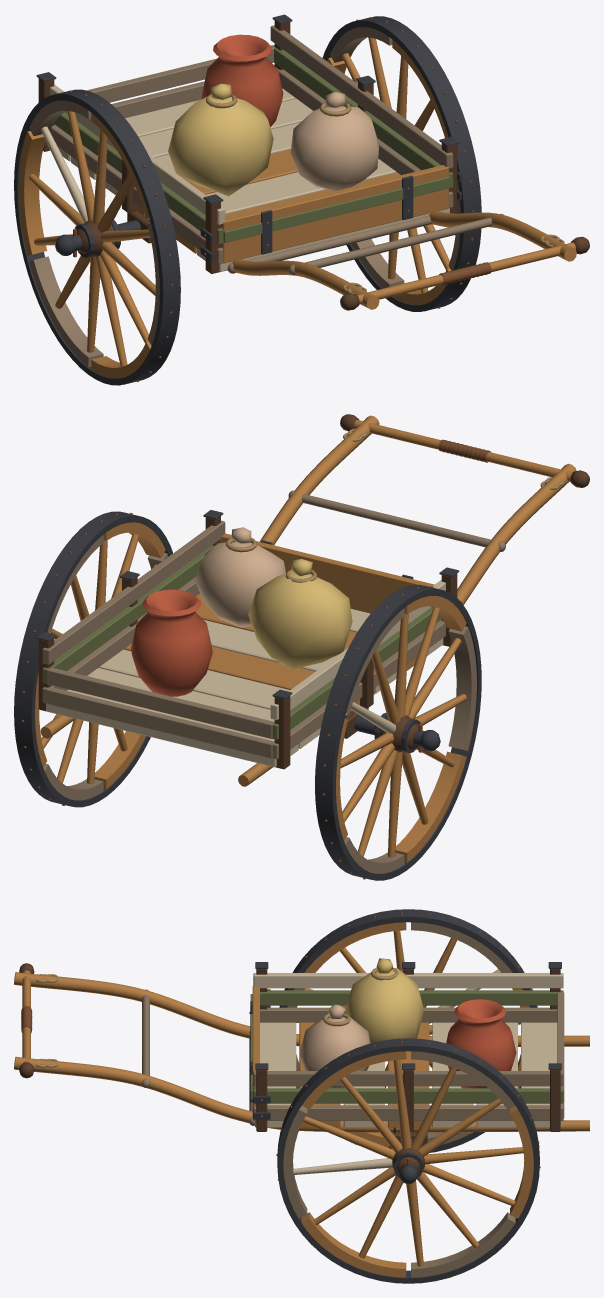
File: carry_cart_hand.fbx
The picture shows the model from 3 angles, top to bottom: view 1: azimuth 30°, elevation 25°; view 2: azimuth 150°, elevation 25°; view 3: azimuth 270°, elevation 25°; orthographic projection. The views are drawn at different scales.
Parts seen in each view (by area): view 1: Carry_Cart_Hand_Sides, Carry_Cart_Hand_Wheel_L, Carry_Cart_Hand_Load, Carry_Cart_Hand_Wheel_R, Carry_Cart_Hand_Floor, Carry_Cart_Hand_Shafts, Carry_Cart_Hand_Bar, Carry_Cart_Hand_Ironwork, Carry_Cart_Hand_Axle; view 2: Carry_Cart_Hand_Sides, Carry_Cart_Hand_Wheel_L, Carry_Cart_Hand_Load, Carry_Cart_Hand_Wheel_R, Carry_Cart_Hand_Floor, Carry_Cart_Hand_Shafts, Carry_Cart_Hand_Bar, Carry_Cart_Hand_Axle, Carry_Cart_Hand_Ironwork; view 3: Carry_Cart_Hand_Wheel_R, Carry_Cart_Hand_Sides, Carry_Cart_Hand_Load, Carry_Cart_Hand_Shafts, Carry_Cart_Hand_Floor, Carry_Cart_Hand_Wheel_L, Carry_Cart_Hand_Bar, Carry_Cart_Hand_Ironwork, Carry_Cart_Hand_Axle.
Boxes of the visible parts, bbox=[...] form: Carry_Cart_Hand_Sides: bbox=[38, 21, 457, 273]; Carry_Cart_Hand_Wheel_L: bbox=[14, 89, 180, 385]; Carry_Cart_Hand_Load: bbox=[168, 34, 378, 196]; Carry_Cart_Hand_Wheel_R: bbox=[322, 16, 481, 311]; Carry_Cart_Hand_Floor: bbox=[57, 88, 449, 271]; Carry_Cart_Hand_Shafts: bbox=[227, 211, 576, 309]; Carry_Cart_Hand_Bar: bbox=[340, 234, 589, 310]; Carry_Cart_Hand_Ironwork: bbox=[36, 14, 461, 260]; Carry_Cart_Hand_Axle: bbox=[55, 211, 151, 257]; Carry_Cart_Hand_Sides: bbox=[38, 516, 457, 769]; Carry_Cart_Hand_Wheel_L: bbox=[315, 585, 481, 880]; Carry_Cart_Hand_Load: bbox=[131, 527, 352, 696]; Carry_Cart_Hand_Wheel_R: bbox=[14, 511, 172, 807]; Carry_Cart_Hand_Floor: bbox=[46, 593, 443, 767]; Carry_Cart_Hand_Shafts: bbox=[40, 415, 576, 786]; Carry_Cart_Hand_Bar: bbox=[340, 414, 589, 489]; Carry_Cart_Hand_Axle: bbox=[344, 707, 440, 752]; Carry_Cart_Hand_Ironwork: bbox=[36, 510, 461, 699]; Carry_Cart_Hand_Wheel_R: bbox=[276, 1038, 540, 1283]; Carry_Cart_Hand_Sides: bbox=[250, 969, 564, 1131]; Carry_Cart_Hand_Load: bbox=[299, 958, 516, 1088]; Carry_Cart_Hand_Shafts: bbox=[14, 972, 589, 1132]; Carry_Cart_Hand_Floor: bbox=[255, 1022, 562, 1127]; Carry_Cart_Hand_Wheel_L: bbox=[279, 909, 537, 1152]; Carry_Cart_Hand_Bar: bbox=[19, 963, 58, 1078]; Carry_Cart_Hand_Ironwork: bbox=[249, 962, 561, 1119]; Carry_Cart_Hand_Axle: bbox=[389, 1127, 427, 1183].
Size of the model in its own units: 163 by 111 by 241.
